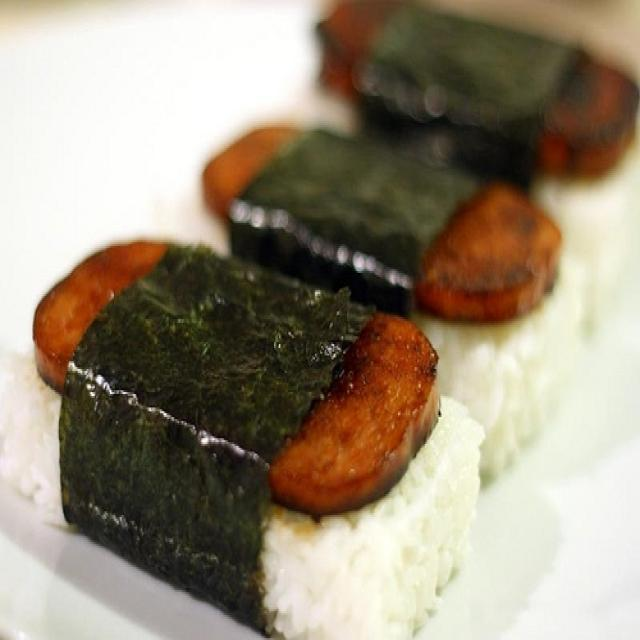寿司卷物: (13, 9, 631, 626)
